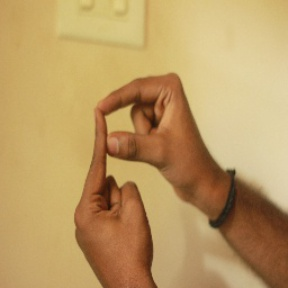P: (70, 69, 194, 246)
